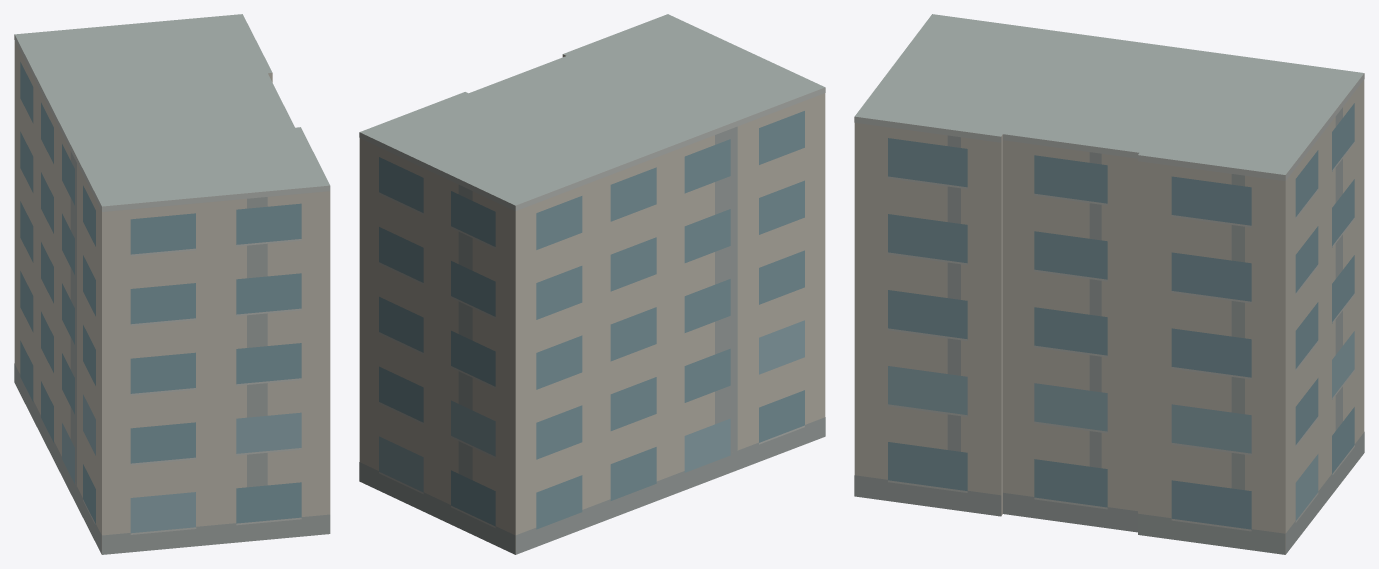
Rendered from survey-upis-32642312.glb.
3 renders of one model, left to right at view 1: azimuth 30°, elevation 25°; view 2: azimuth 150°, elevation 25°; view 3: azimuth 270°, elevation 25°, orthographic. The views are drawn at different scales.
Parts seen in each view (by area): view 1: survey-upis-32642312.tmp; view 2: survey-upis-32642312.tmp; view 3: survey-upis-32642312.tmp.
Boxes of the visible parts, bbox=[...] form: survey-upis-32642312.tmp: bbox=[14, 14, 330, 554]; survey-upis-32642312.tmp: bbox=[359, 14, 825, 554]; survey-upis-32642312.tmp: bbox=[854, 14, 1364, 554].
Bounding box in the file's own units: 13.88 × 15.25 × 18.57.
